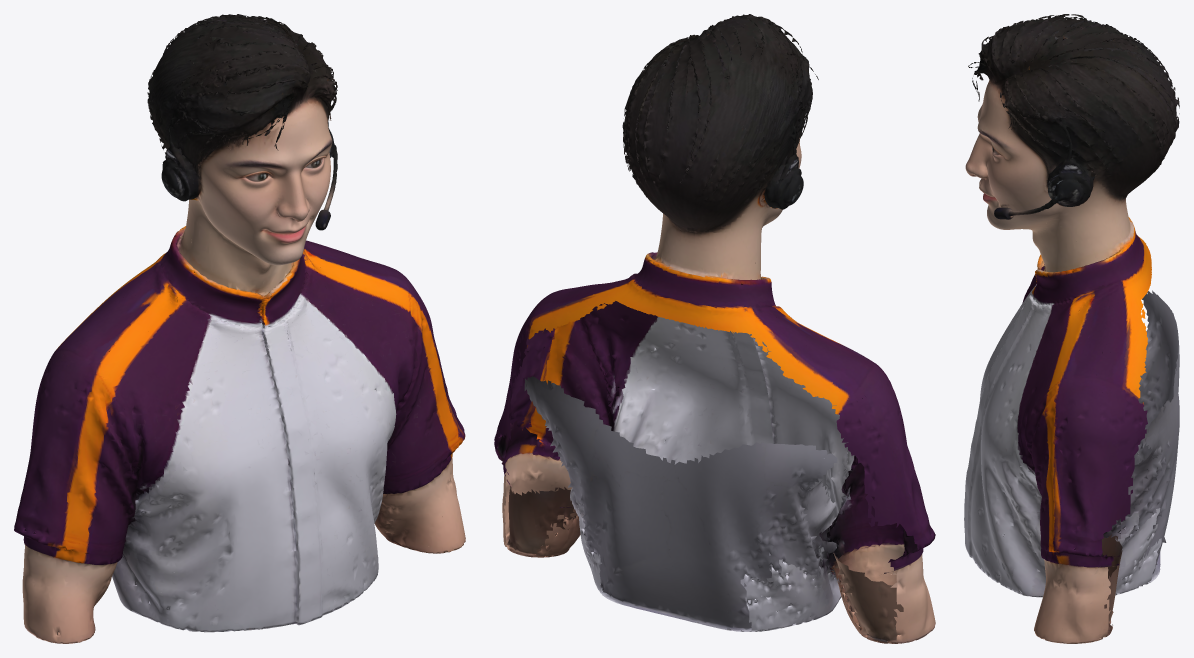
The model's file is assistant-officer.glb.
The picture shows the model from 3 angles, left to right: view 1: azimuth 30°, elevation 25°; view 2: azimuth 150°, elevation 25°; view 3: azimuth 270°, elevation 25°; orthographic projection. The views are drawn at different scales.
Parts seen in each view (by area): view 1: officer; view 2: officer; view 3: officer.
Boxes of the visible parts, <box> form: officer: <box>14,14,465,643</box>; officer: <box>494,14,935,643</box>; officer: <box>964,14,1179,643</box>.
Size of the model in its own units: 0.3212 by 0.3885 by 0.145.
Materials: 1 (1 with a texture image).
